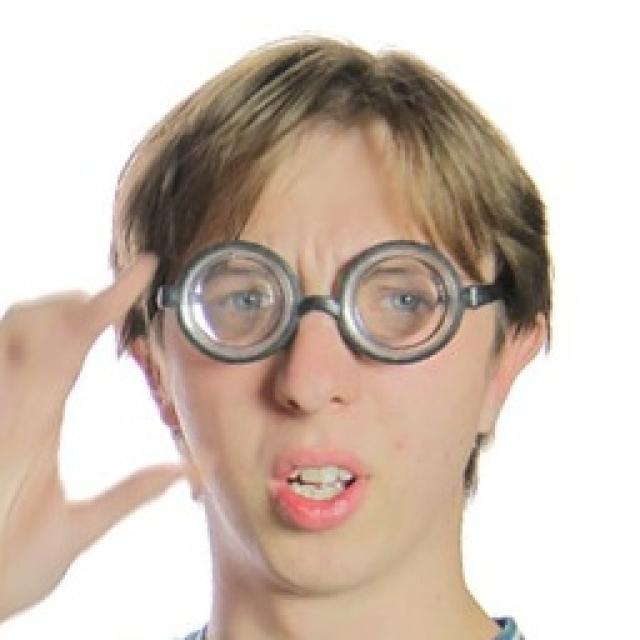glasses: (142, 232, 512, 368)
